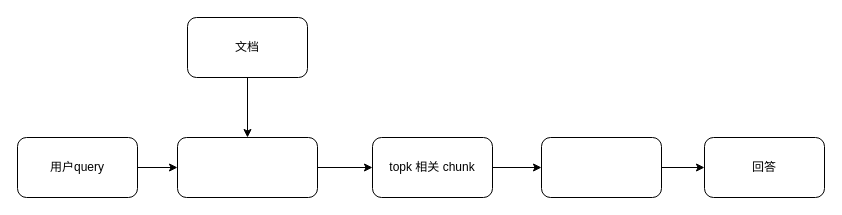
The diagram is 842 pixels wide and 215 high, and some of its shapes have lost their labels. The shapes that lost their labels are listed below. From the top down, each one's centre as x and y in pixels, then its label:
At pixel 247 167: "向量存储（所有chunk）".
At pixel 601 167: "大模型".
